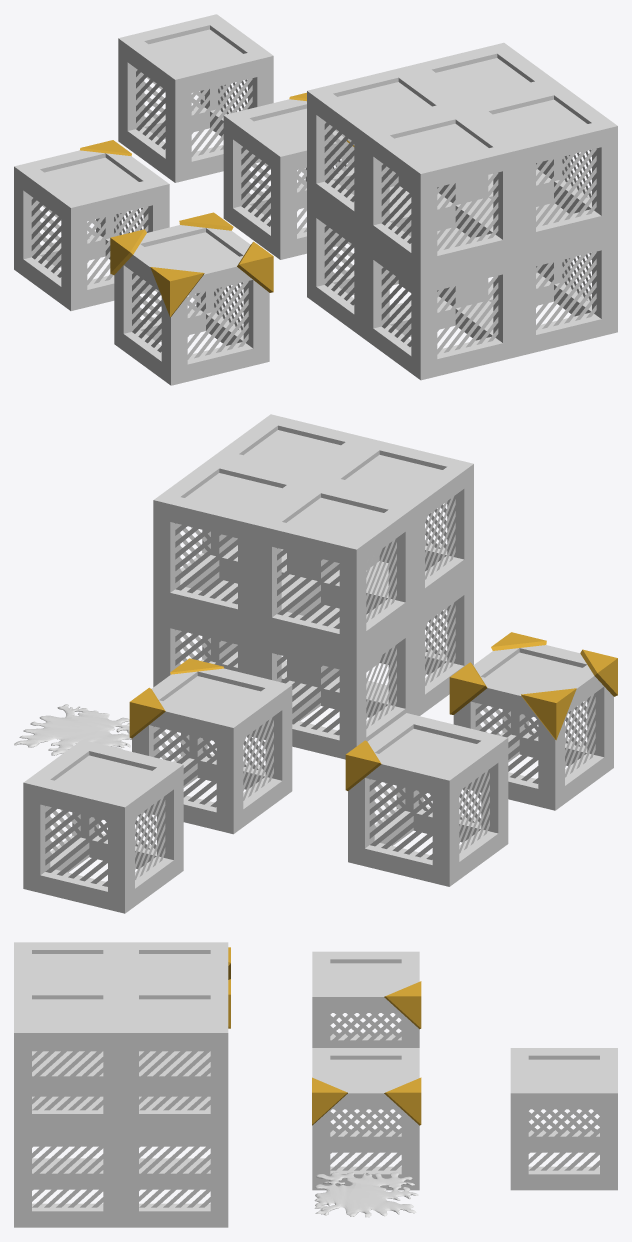
Rendered from Platforms__sticky_floors.fbx.
The picture shows the model from 3 angles, top to bottom: view 1: azimuth 30°, elevation 25°; view 2: azimuth 150°, elevation 25°; view 3: azimuth 270°, elevation 25°; orthographic projection. The views are drawn at different scales.
Parts seen in each view (by area): view 1: Cube.005, Cube.001, Cube.002, Cube.003, Cube.004; view 2: Cube.005, Cube.003, Cube.002, Cube.001, Cube.004, Plane; view 3: Cube.005, Cube.002, Cube.004, Cube.003, Plane.
Part boxes in pixels (<box>): Cube.005: <box>307,42,617,380</box>; Cube.001: <box>110,212,273,385</box>; Cube.002: <box>118,14,273,182</box>; Cube.003: <box>14,140,169,310</box>; Cube.004: <box>223,92,354,259</box>; Cube.005: <box>153,414,473,759</box>; Cube.003: <box>345,713,508,886</box>; Cube.002: <box>23,739,183,913</box>; Cube.001: <box>449,632,617,810</box>; Cube.004: <box>129,658,292,834</box>; Plane: <box>14,704,131,755</box>; Cube.005: <box>14,942,228,1227</box>; Cube.002: <box>510,1048,617,1190</box>; Cube.004: <box>312,1048,421,1190</box>; Cube.003: <box>312,951,421,1047</box>; Plane: <box>314,1172,418,1217</box>.
Bounding box in the file's own units: 888 × 400 × 1126.
